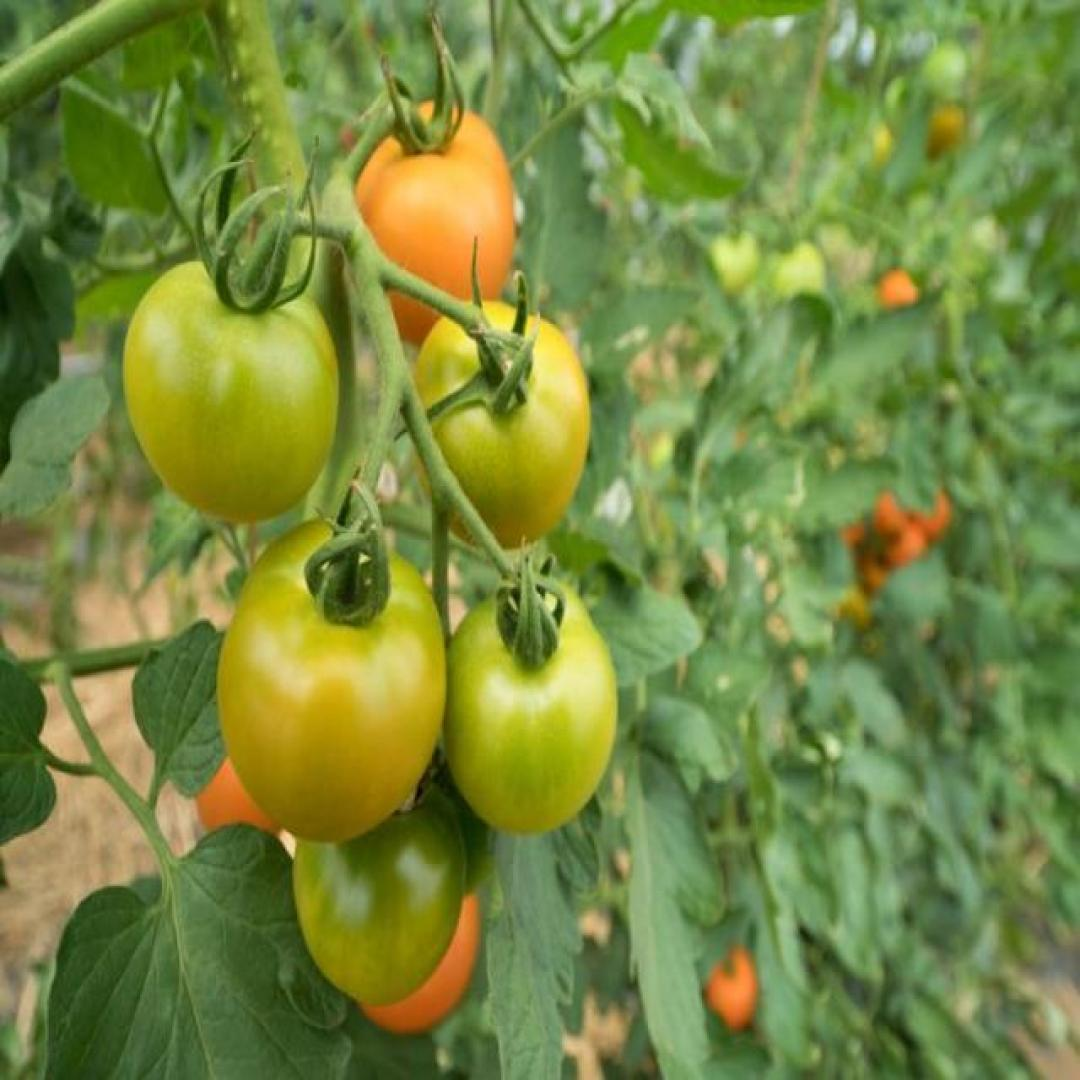mentah: (122, 248, 339, 525), (437, 575, 619, 837), (406, 297, 590, 552)
setengah_matang: (214, 513, 448, 844), (342, 100, 514, 346)
